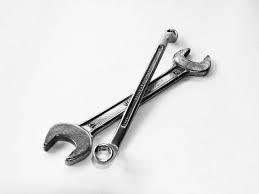wrench: (92, 26, 178, 164), (42, 109, 99, 165), (159, 46, 212, 90)
